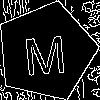M: (21, 26, 68, 76)
